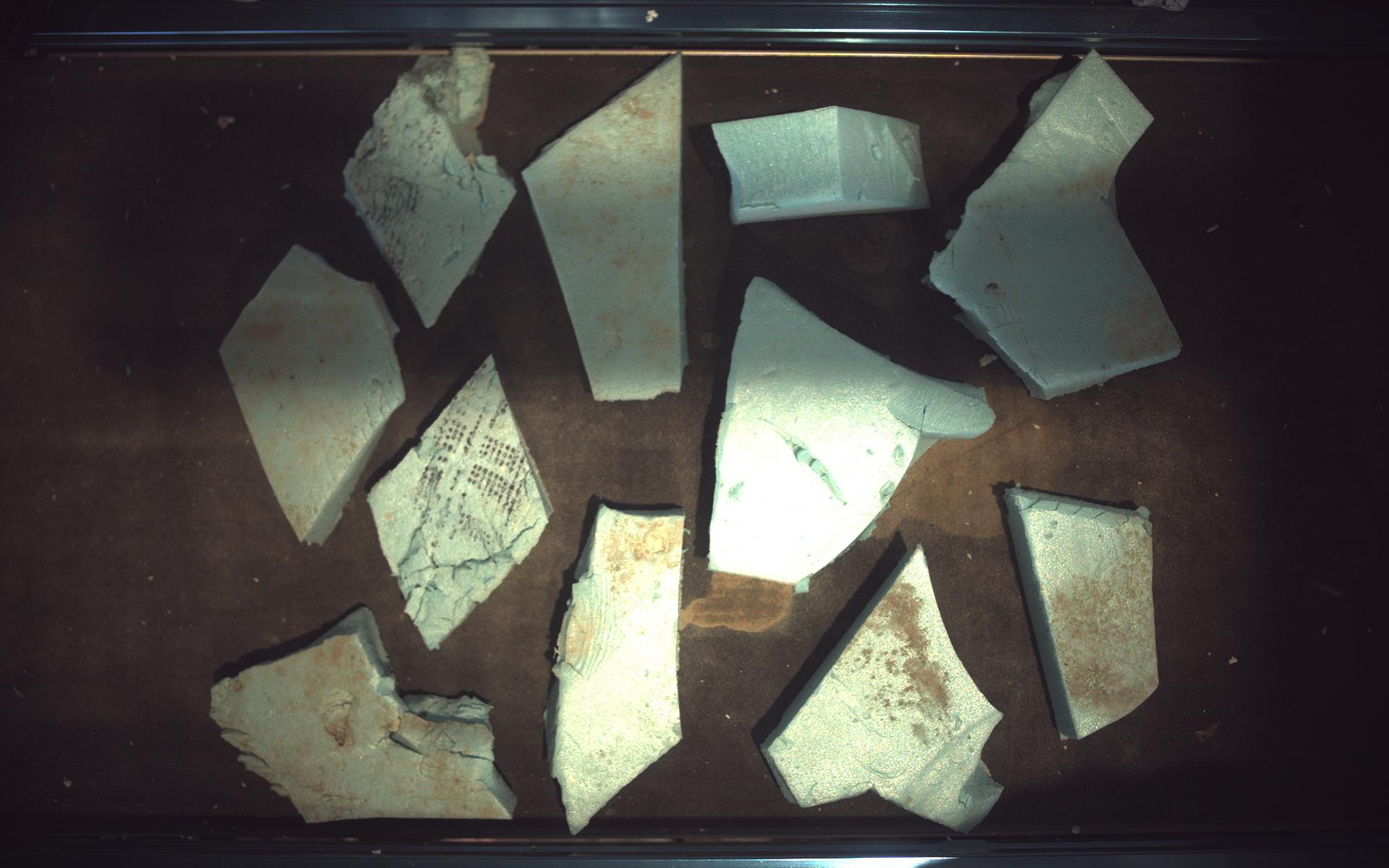foam: (710, 278, 997, 596), (931, 50, 1184, 399), (764, 547, 1005, 833), (210, 608, 516, 824), (523, 54, 688, 401), (219, 244, 404, 543), (368, 355, 551, 650), (344, 49, 516, 326), (547, 506, 686, 835), (1006, 487, 1160, 740), (715, 105, 932, 224)
